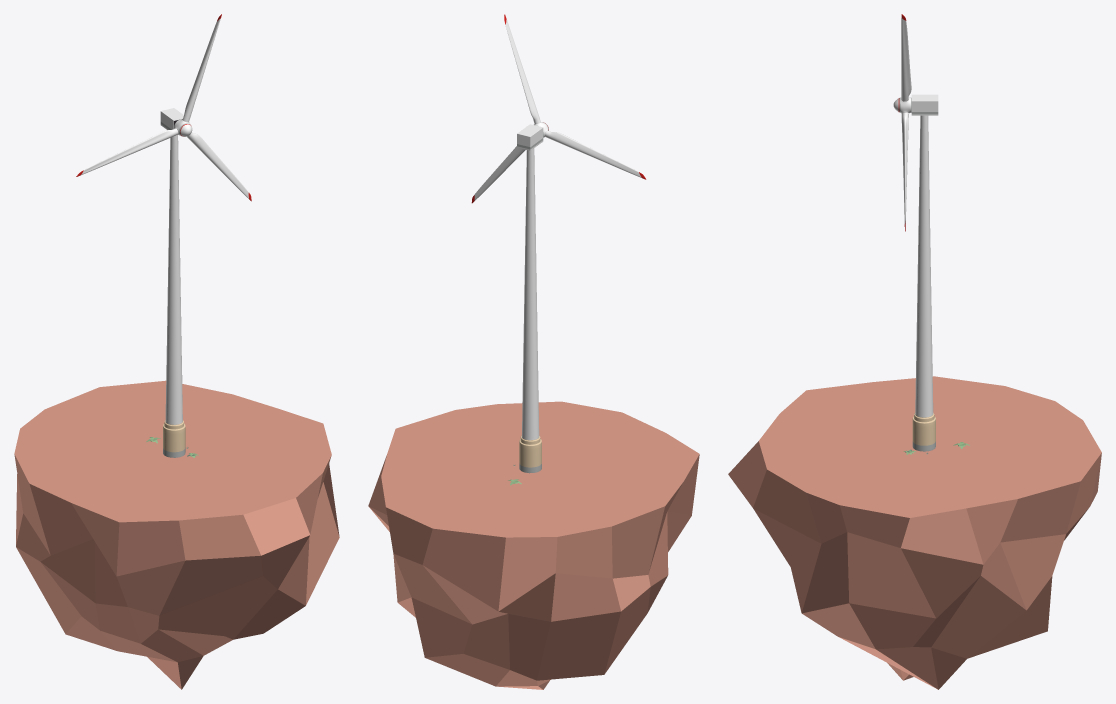
File: EolicOBJ_converted.glb
3 renders of one model, left to right at view 1: azimuth 30°, elevation 25°; view 2: azimuth 150°, elevation 25°; view 3: azimuth 270°, elevation 25°, orthographic. The views are drawn at different scales.
Visible parts, largest first — view 1: Roundcube.001, Cylinder.003, Cylinder.002_Cylinder, Cylinder.001_Cylinder, Cylinder; view 2: Roundcube.001, Cylinder.003, Cylinder.002_Cylinder, Cylinder, Cube_Cube.002, Cylinder.001_Cylinder; view 3: Roundcube.001, Cylinder.003, Cylinder, Cube_Cube.002.
Part boxes in pixels (x1,y1,x2,y2): Roundcube.001: (14, 380, 339, 689); Cylinder.003: (163, 135, 185, 457); Cylinder.002_Cylinder: (76, 128, 178, 176); Cylinder.001_Cylinder: (187, 132, 251, 201); Cylinder: (182, 14, 221, 122); Roundcube.001: (368, 401, 699, 689); Cylinder.003: (519, 148, 541, 473); Cylinder.002_Cylinder: (545, 130, 646, 179); Cylinder: (504, 14, 540, 124); Cube_Cube.002: (517, 124, 543, 150); Cylinder.001_Cylinder: (471, 146, 525, 203); Roundcube.001: (728, 376, 1101, 689); Cylinder.003: (912, 115, 935, 451); Cylinder: (901, 14, 911, 101); Cube_Cube.002: (911, 94, 938, 115).
Bounding box in the file's own units: 24.75 × 55.86 × 27.57.
2 materials, 2 textured.
